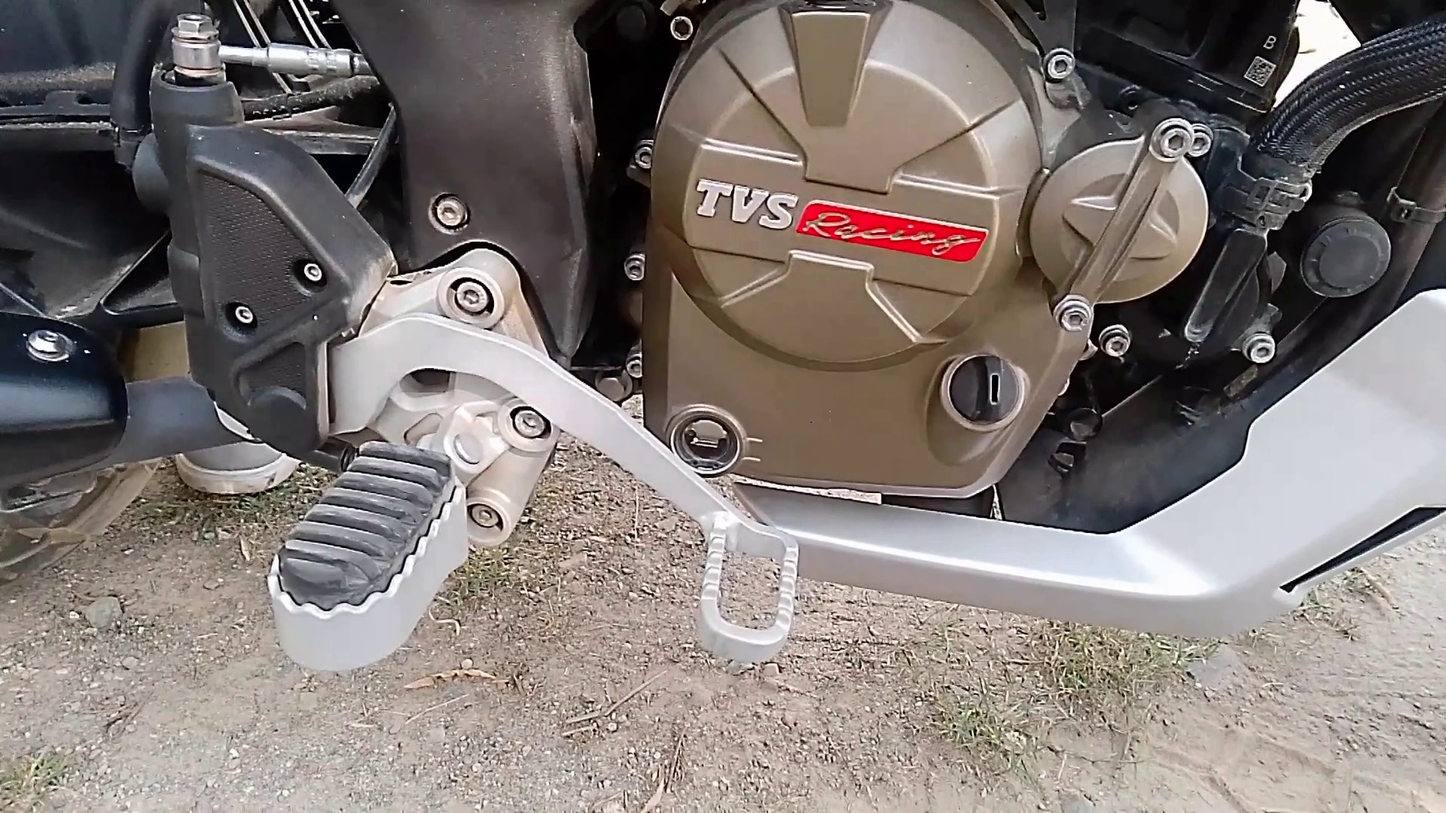engine: (629, 0, 1228, 521)
oil_cap: (928, 335, 1036, 446)
oil_marker: (650, 391, 781, 493)
